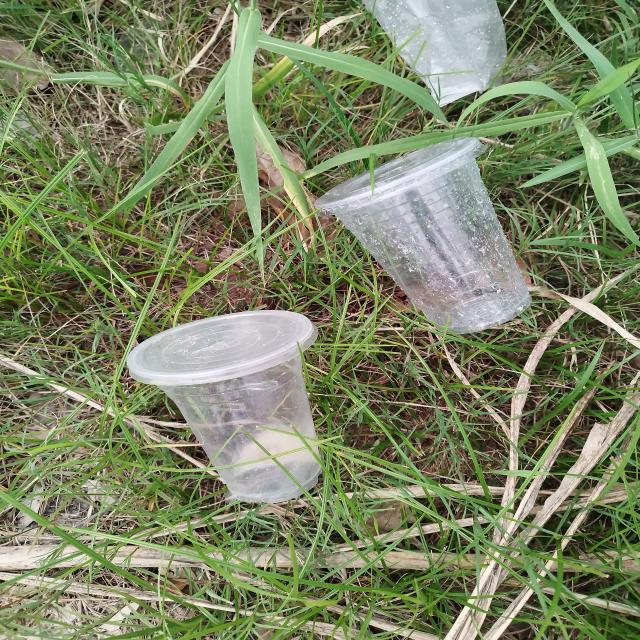bag: (361, 0, 508, 108)
plastic glass: (314, 136, 532, 334), (126, 309, 324, 503)
